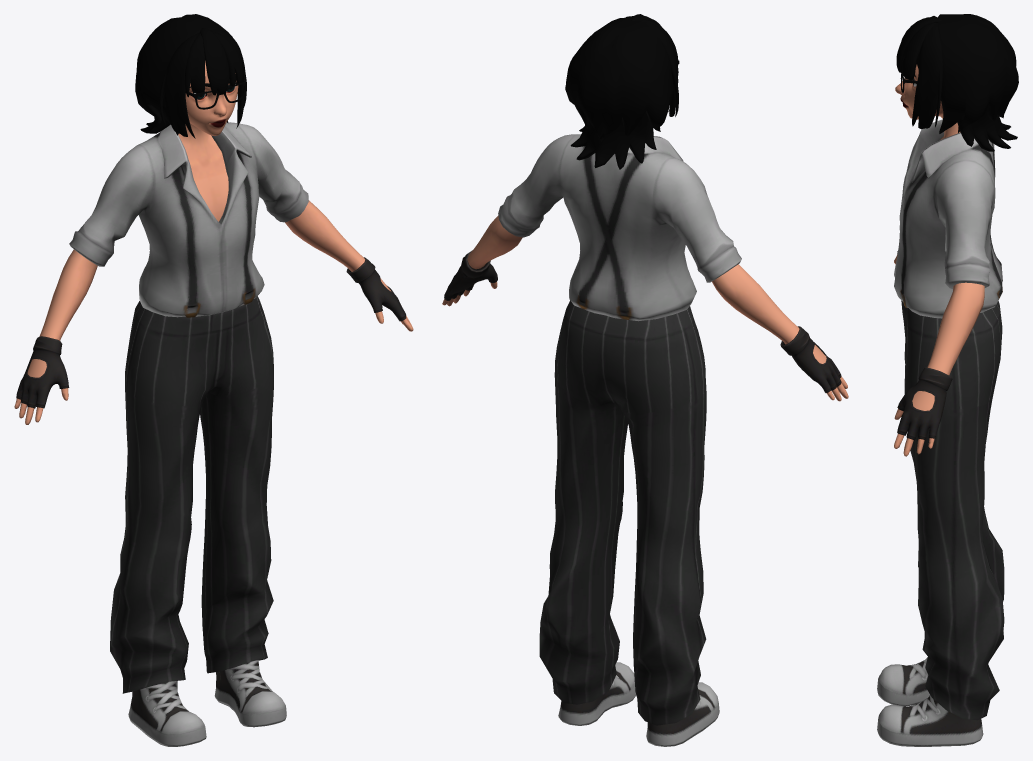
File: StaffYuki_Mesh.obj
3 views of the same model, side by side, from view 1: azimuth 30°, elevation 25°; view 2: azimuth 150°, elevation 25°; view 3: azimuth 270°, elevation 25° (orthographic).
Visible parts, largest first — view 1: StaffYuki_Mesh_0; view 2: StaffYuki_Mesh_0; view 3: StaffYuki_Mesh_0.
Part boxes in pixels (x1,y1,x2,y2): StaffYuki_Mesh_0: (14,14,413,746); StaffYuki_Mesh_0: (442,14,848,746); StaffYuki_Mesh_0: (877,14,1018,746).
Bounding box in the file's own units: 1.06 × 1.8 × 0.3303.
Materials: 1 (1 with a texture image).
